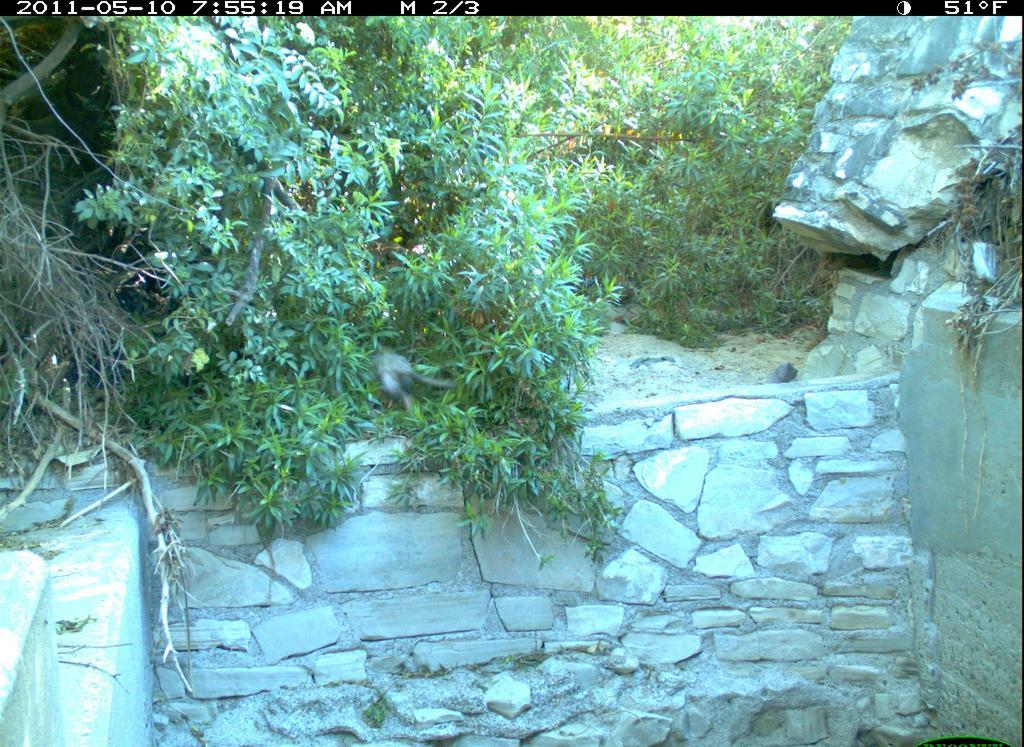opossum: (340, 323, 468, 420)
